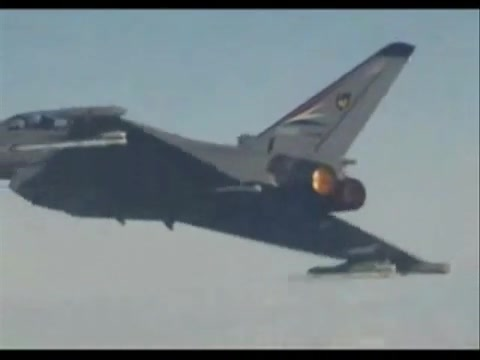aeroplane: (1, 42, 452, 277)
